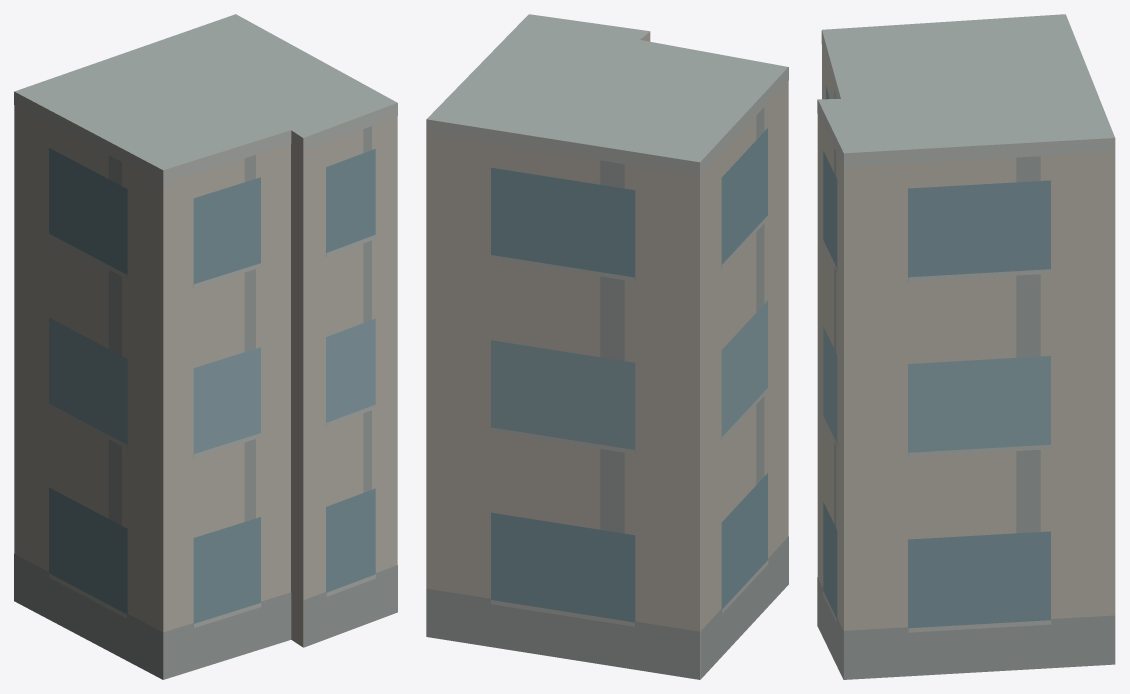
The model's file is residential-bdc83b8b-f8c2-40e0-a655-43649ecbbfd2.glb.
3 renders of one model, left to right at view 1: azimuth 30°, elevation 25°; view 2: azimuth 150°, elevation 25°; view 3: azimuth 270°, elevation 25°, orthographic. The views are drawn at different scales.
Parts seen in each view (by area): view 1: residential-bdc83b8b-f8c2-40e0-a655-43649ecbbfd2.tmp; view 2: residential-bdc83b8b-f8c2-40e0-a655-43649ecbbfd2.tmp; view 3: residential-bdc83b8b-f8c2-40e0-a655-43649ecbbfd2.tmp.
Part boxes in pixels (x1,y1,x2,y2): residential-bdc83b8b-f8c2-40e0-a655-43649ecbbfd2.tmp: [14, 14, 397, 679]; residential-bdc83b8b-f8c2-40e0-a655-43649ecbbfd2.tmp: [426, 14, 788, 679]; residential-bdc83b8b-f8c2-40e0-a655-43649ecbbfd2.tmp: [817, 14, 1115, 679].
Size of the model in its own units: 5.2 by 9.15 by 4.7.
